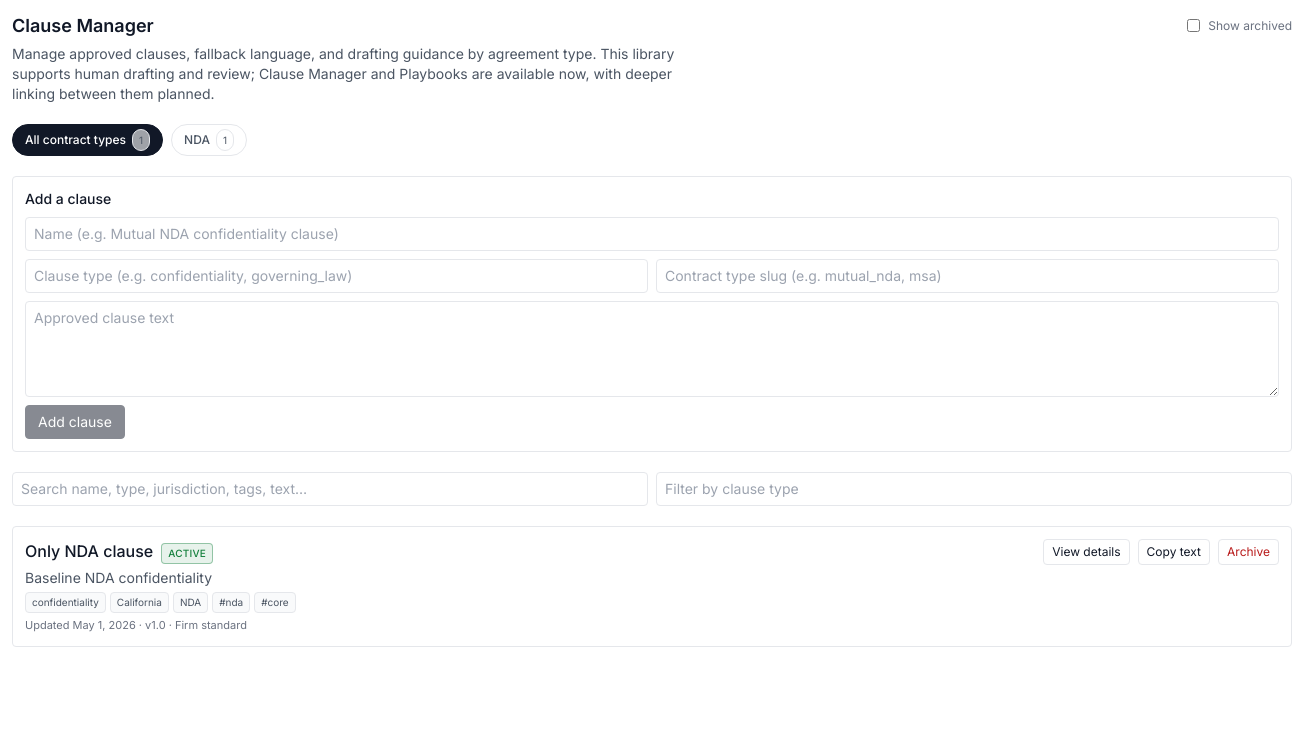
Test case: ClauseLibraryPage › renders a tailored empty state when a contract type has no clauses
The image size is (1304, 732).
Expected: the text "Only NDA clause" is shown, top-left (25, 539), bottom-right (153, 563)
Click the checkbox with test id "clause-include-archived".
click(1194, 26)  # box top-left (1187, 19), bottom-right (1200, 32)
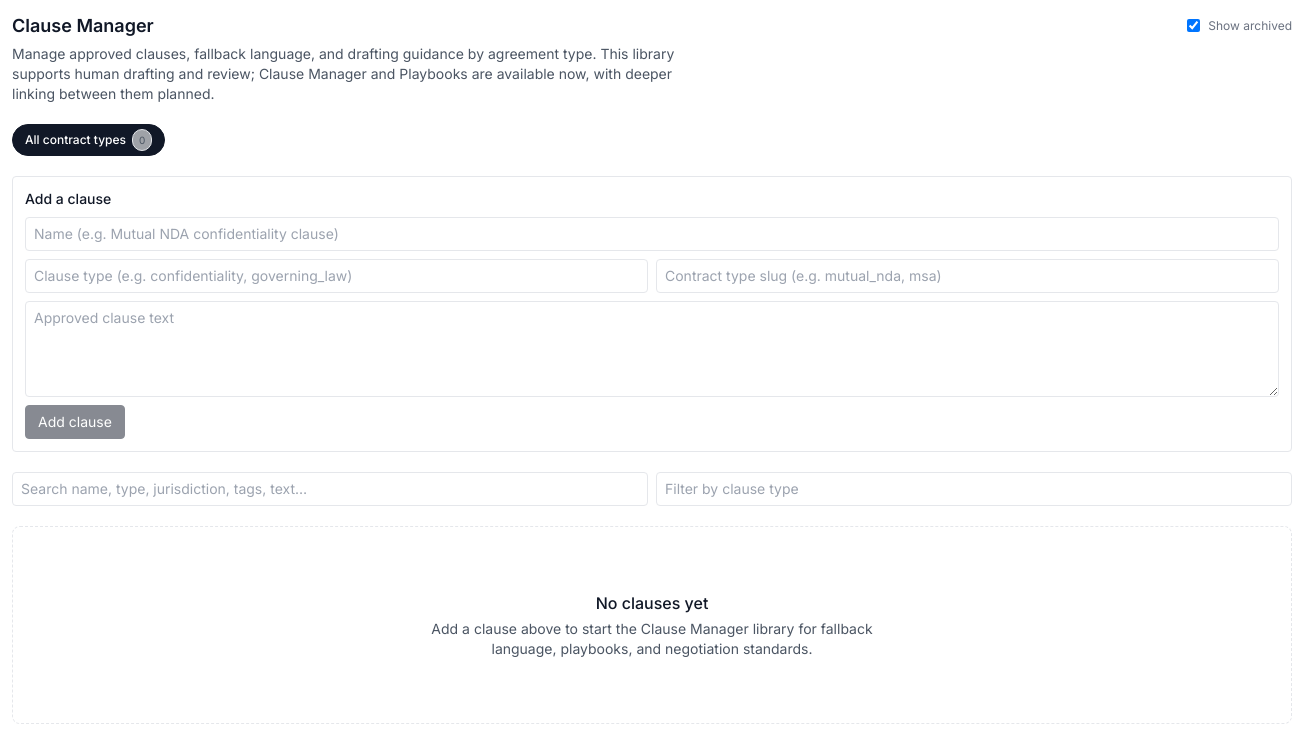
Expected: the heading "No clauses yet" is shown, top-left (596, 591), bottom-right (708, 615)
